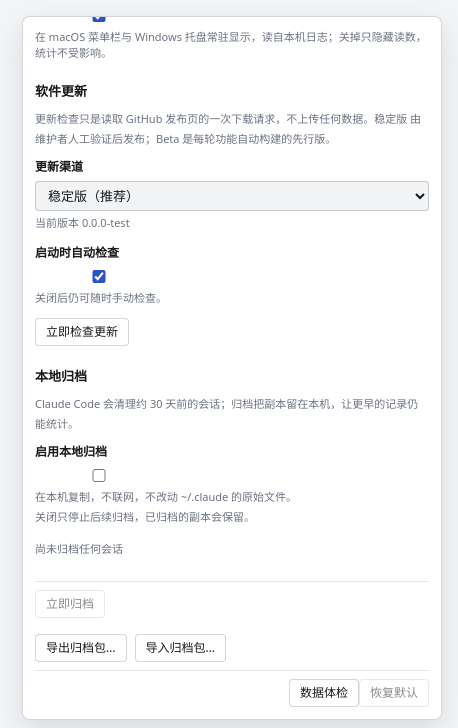
Test: 本地归档 section › flashes 已是最新 when a run has nothing left to copy
(page scrolled)
Click the checkbox labelled "启用本地归档": (99, 476) [39,469,159,482]
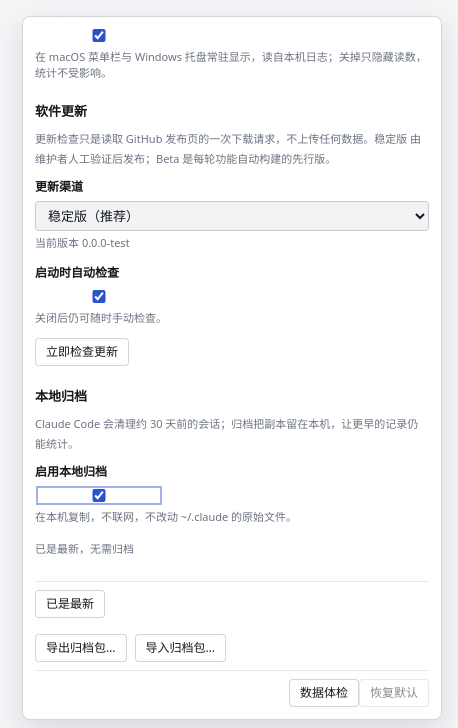
Now the text "已是最新，无需归档" is shown, box [35,541,134,556]
Now the button "已是最新" is shown, box [35,590,105,618]
